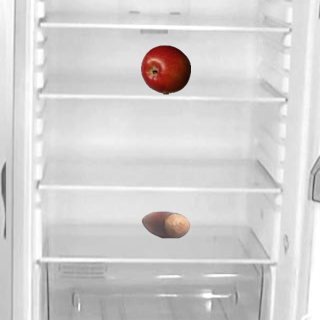Apple Braeburn: (140, 44, 190, 94)
Hazelnut: (140, 199, 190, 249)
